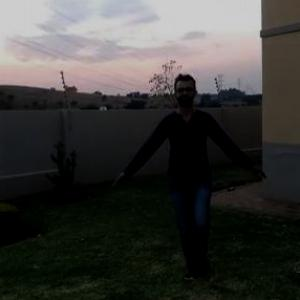land: (136, 84, 244, 272)
